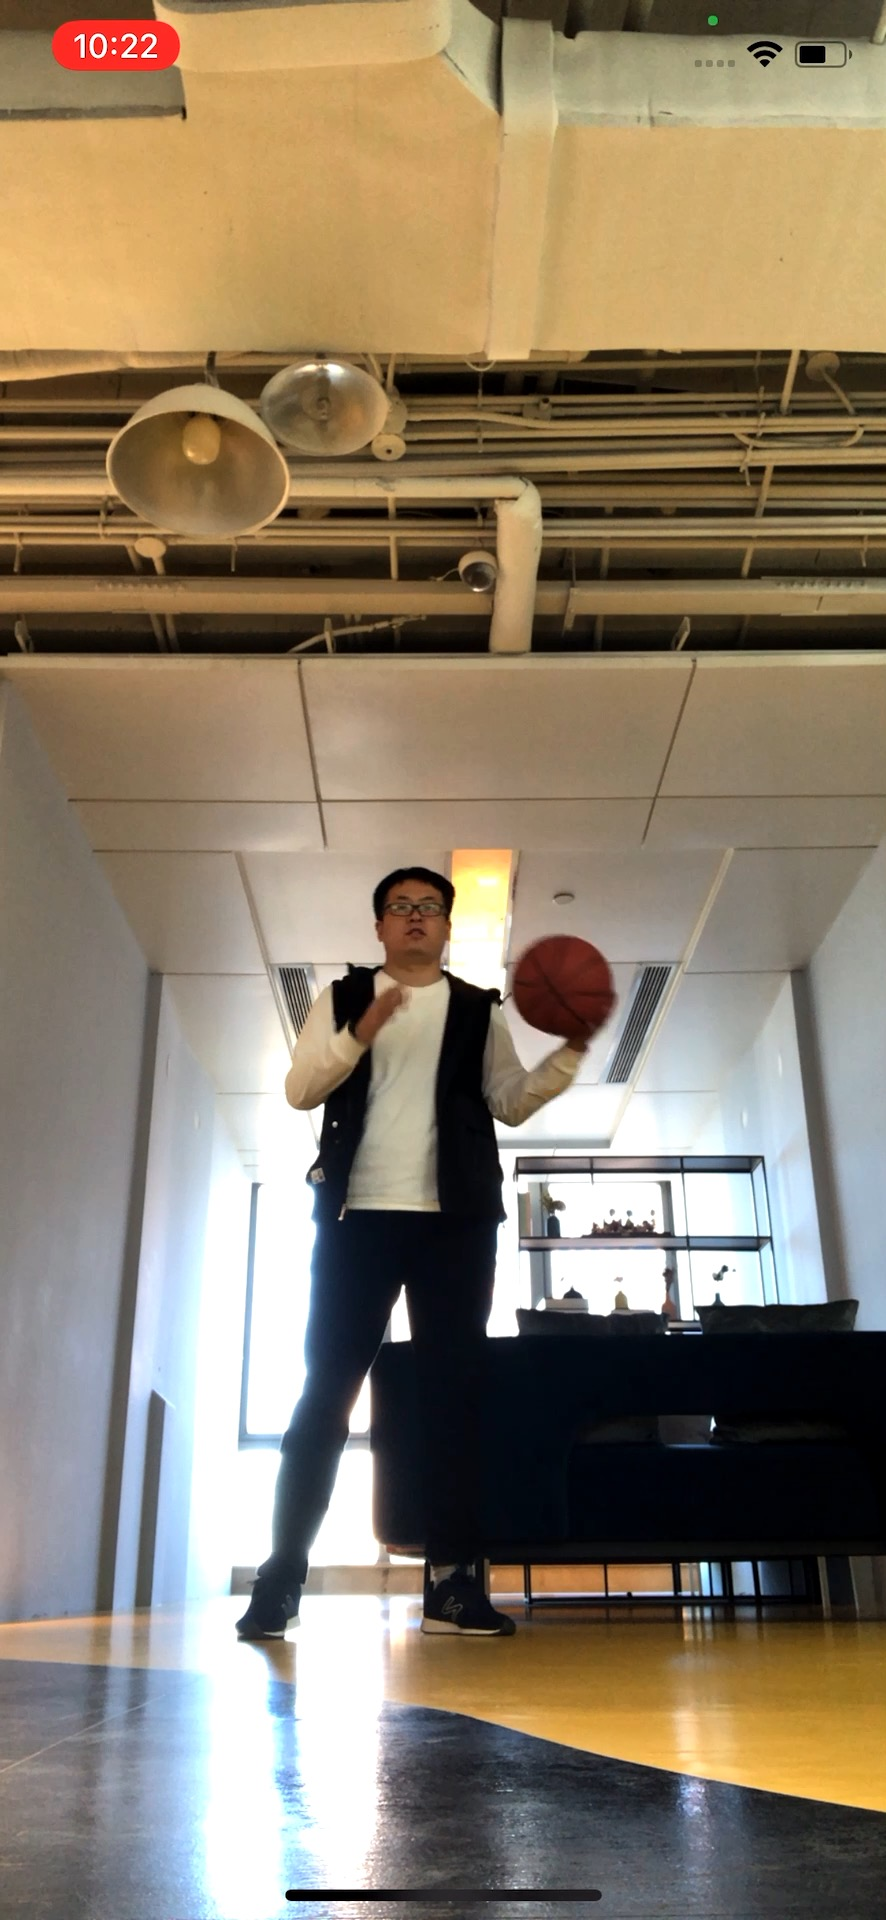ball: (514, 933, 616, 1041)
